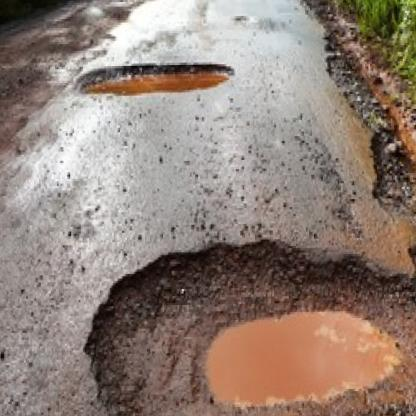pothole: (82, 228, 413, 416), (75, 62, 238, 99)
